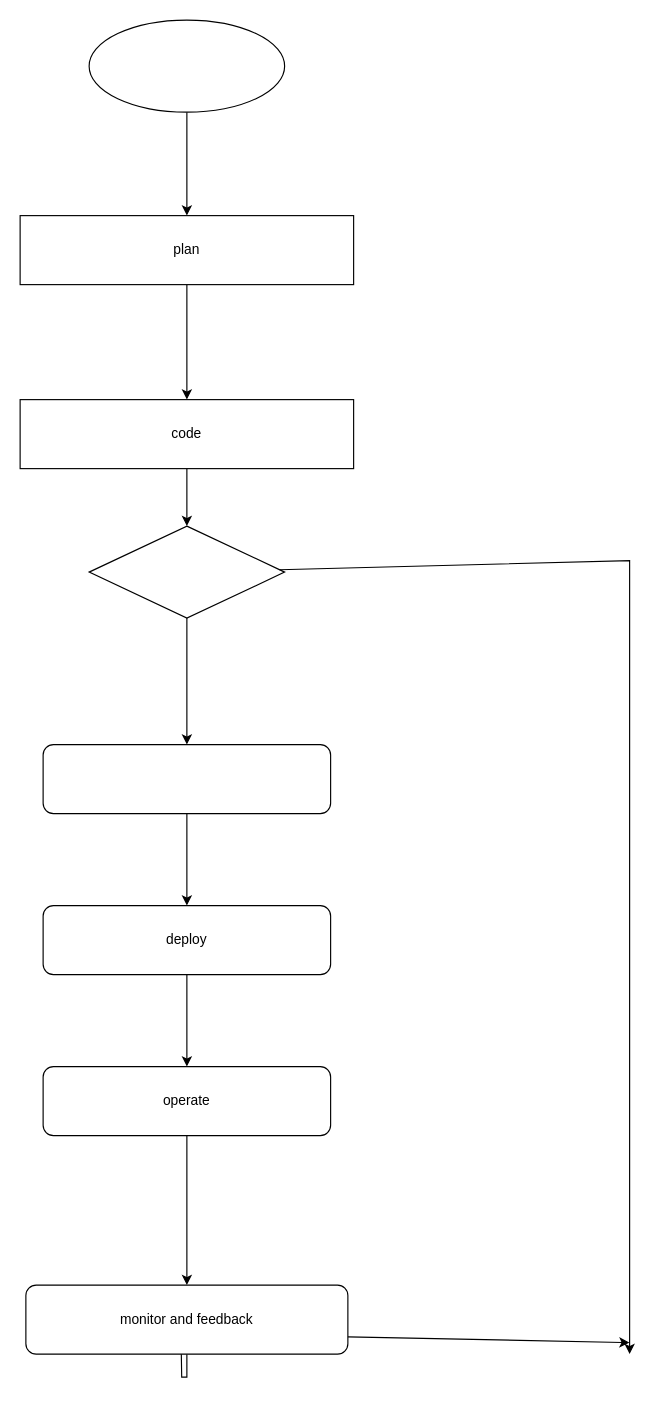
Some shapes in this 659 by 1406 pixel diagram are drawn without their labels. Here are the shapes that lost their labels. From the top down, the box of each, then its label:
(88, 19, 285, 112): start
(88, 525, 285, 618): pass test?
(42, 743, 331, 814): release
